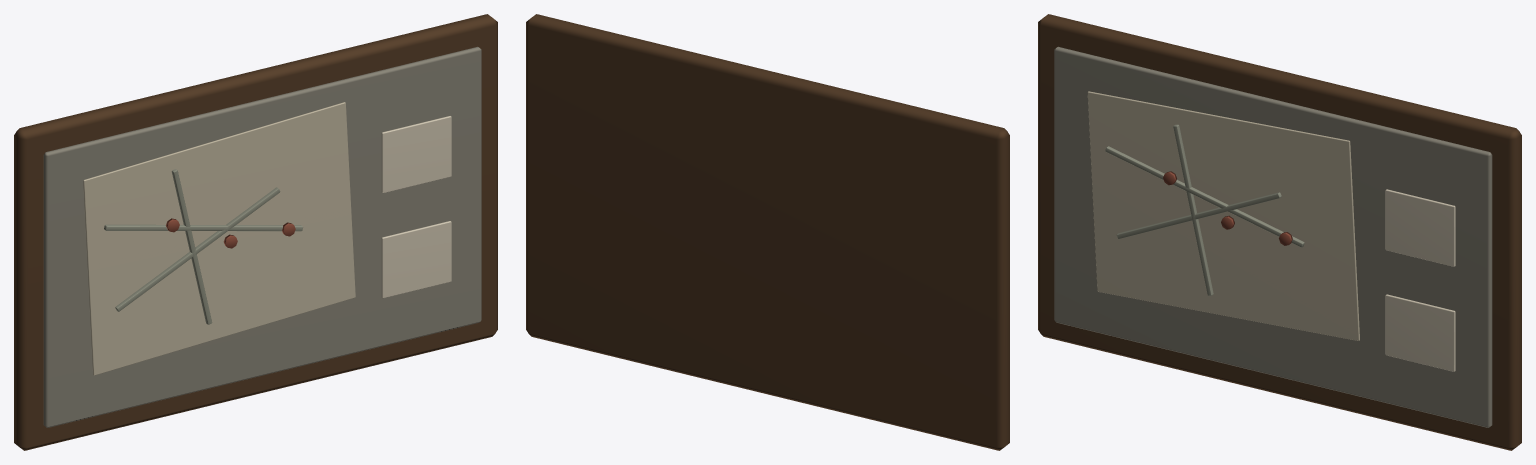
File: MapBoard01.fbx
The picture shows the model from 3 angles, left to right: view 1: azimuth 30°, elevation 25°; view 2: azimuth 150°, elevation 25°; view 3: azimuth 330°, elevation 25°; orthographic projection.
Visible parts, largest first — view 1: MapBoard01.001; view 2: MapBoard01.001; view 3: MapBoard01.001.
Part boxes in pixels (x1=…): MapBoard01.001: x1=14, y1=14, x2=497, y2=450; MapBoard01.001: x1=526, y1=14, x2=1009, y2=450; MapBoard01.001: x1=1038, y1=14, x2=1521, y2=450.
Size of the model in its own units: 124 by 79 by 9.1.
